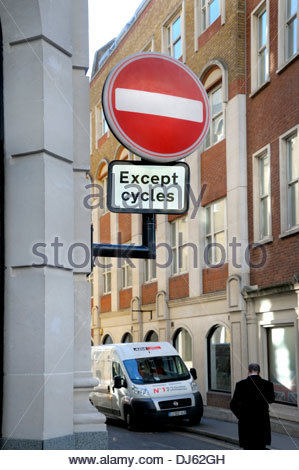No_entry: (102, 52, 213, 163)
